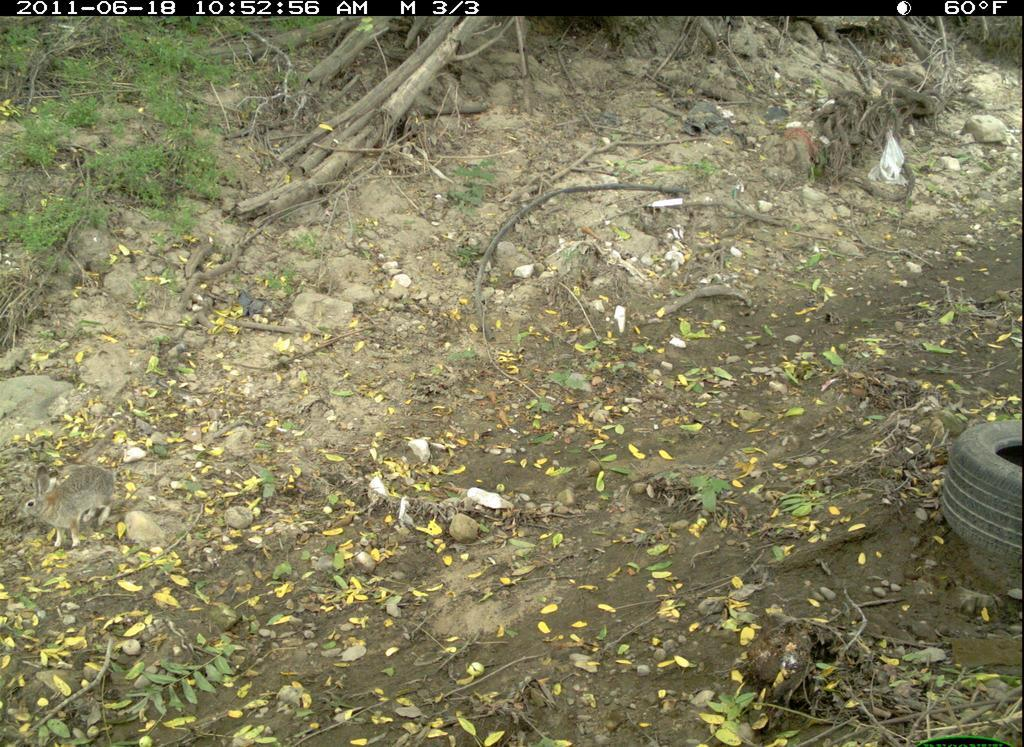rabbit: (13, 456, 125, 556)
